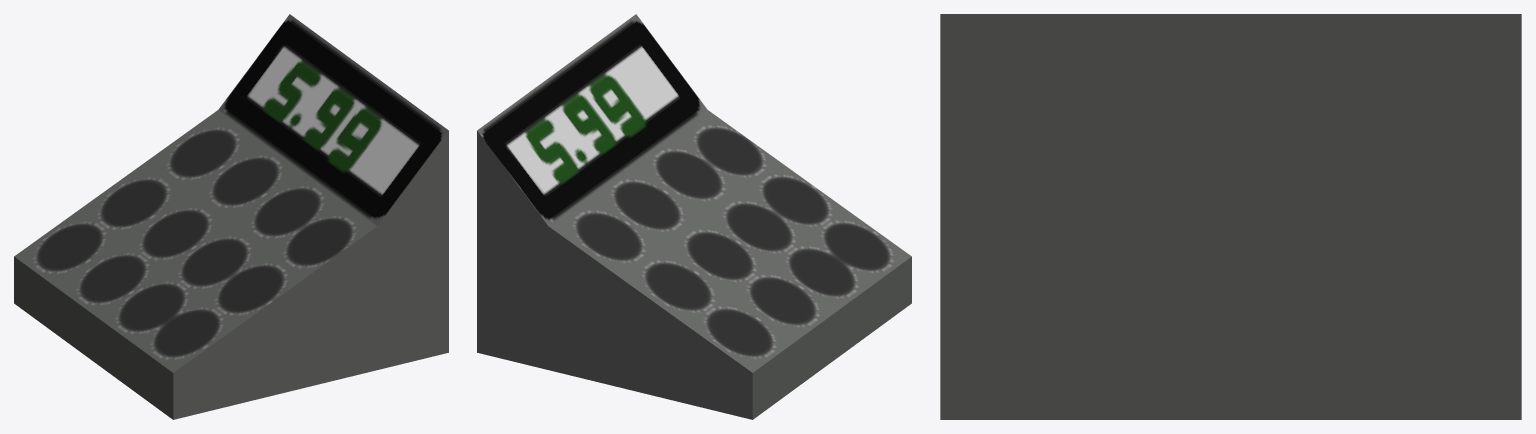
File: cashRegister.glb
The picture shows the model from 3 angles, left to right: view 1: azimuth 30°, elevation 25°; view 2: azimuth 150°, elevation 25°; view 3: azimuth 270°, elevation 25°; orthographic projection. The views are drawn at different scales.
Parts seen in each view (by area): view 1: Cube.027; view 2: Cube.027; view 3: Cube.027.
Boxes of the visible parts, bbox=[...] form: Cube.027: bbox=[14, 14, 448, 419]; Cube.027: bbox=[477, 14, 911, 419]; Cube.027: bbox=[940, 14, 1521, 419].
Size of the model in its own units: 1 by 0.7702 by 1.
Materials: 1 (1 with a texture image).
